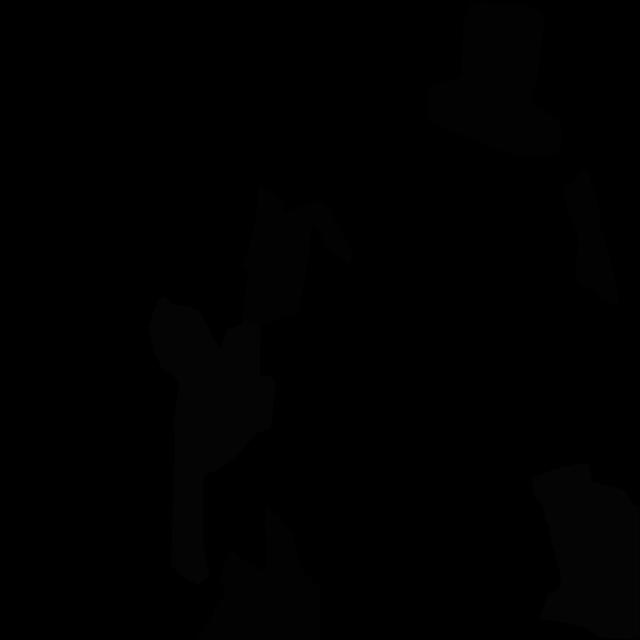cardboard: (427, 0, 562, 159), (196, 508, 320, 640), (241, 183, 354, 325), (561, 169, 620, 306)
soft_plastic: (148, 296, 276, 585), (532, 464, 640, 640)
